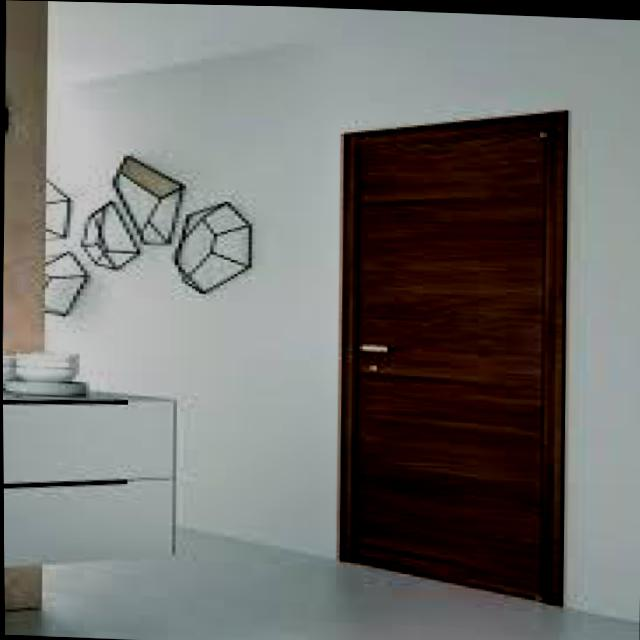close: (293, 95, 602, 620)
